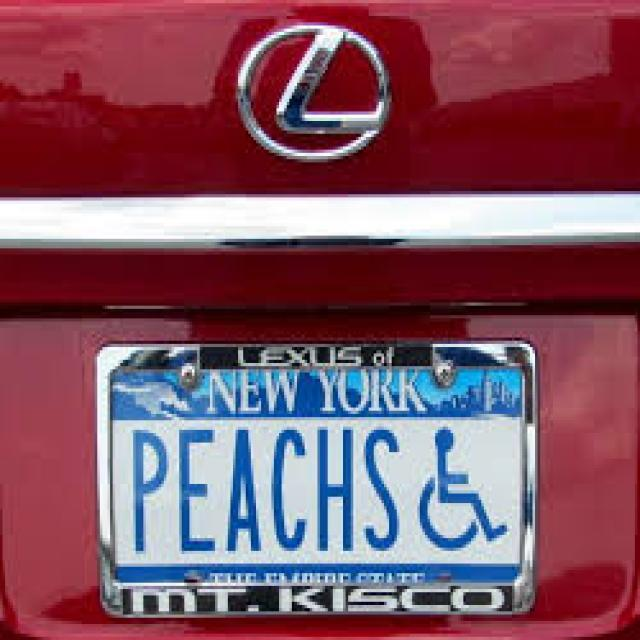symbol_of_access: (420, 424, 515, 556)
